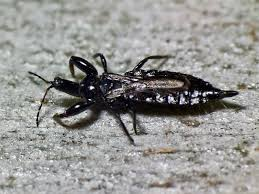Phlaeothripidae: (25, 51, 241, 143)
